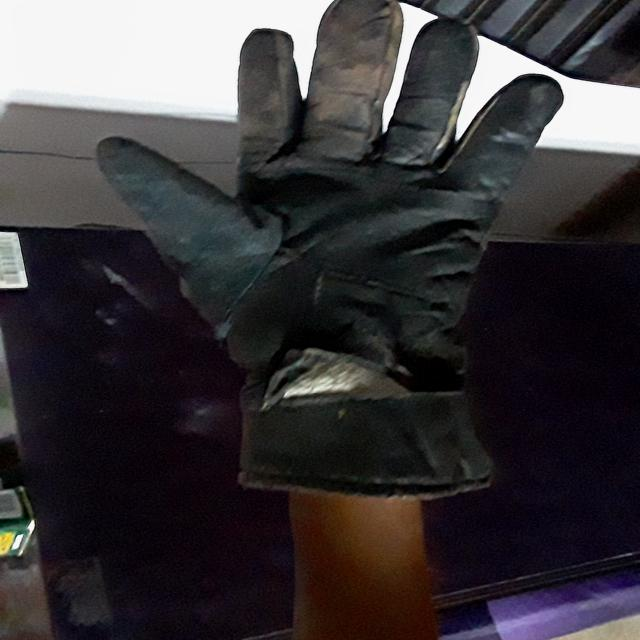glove: (92, 0, 569, 509)
